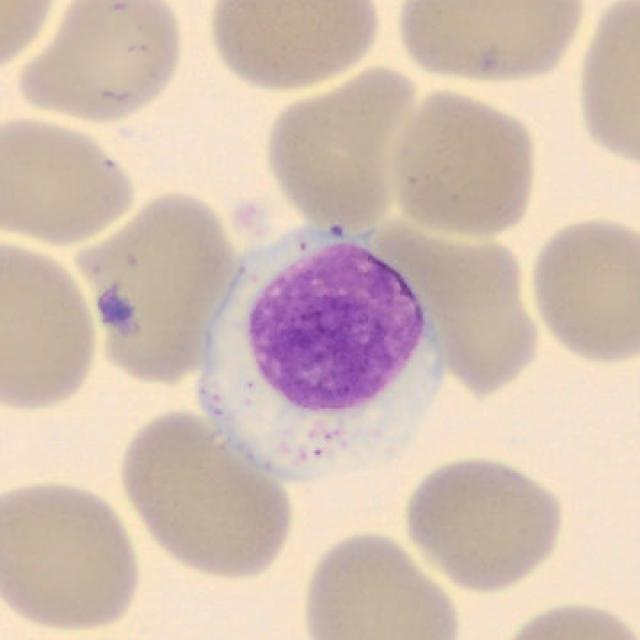Linfocito atipico: (197, 229, 448, 485)
